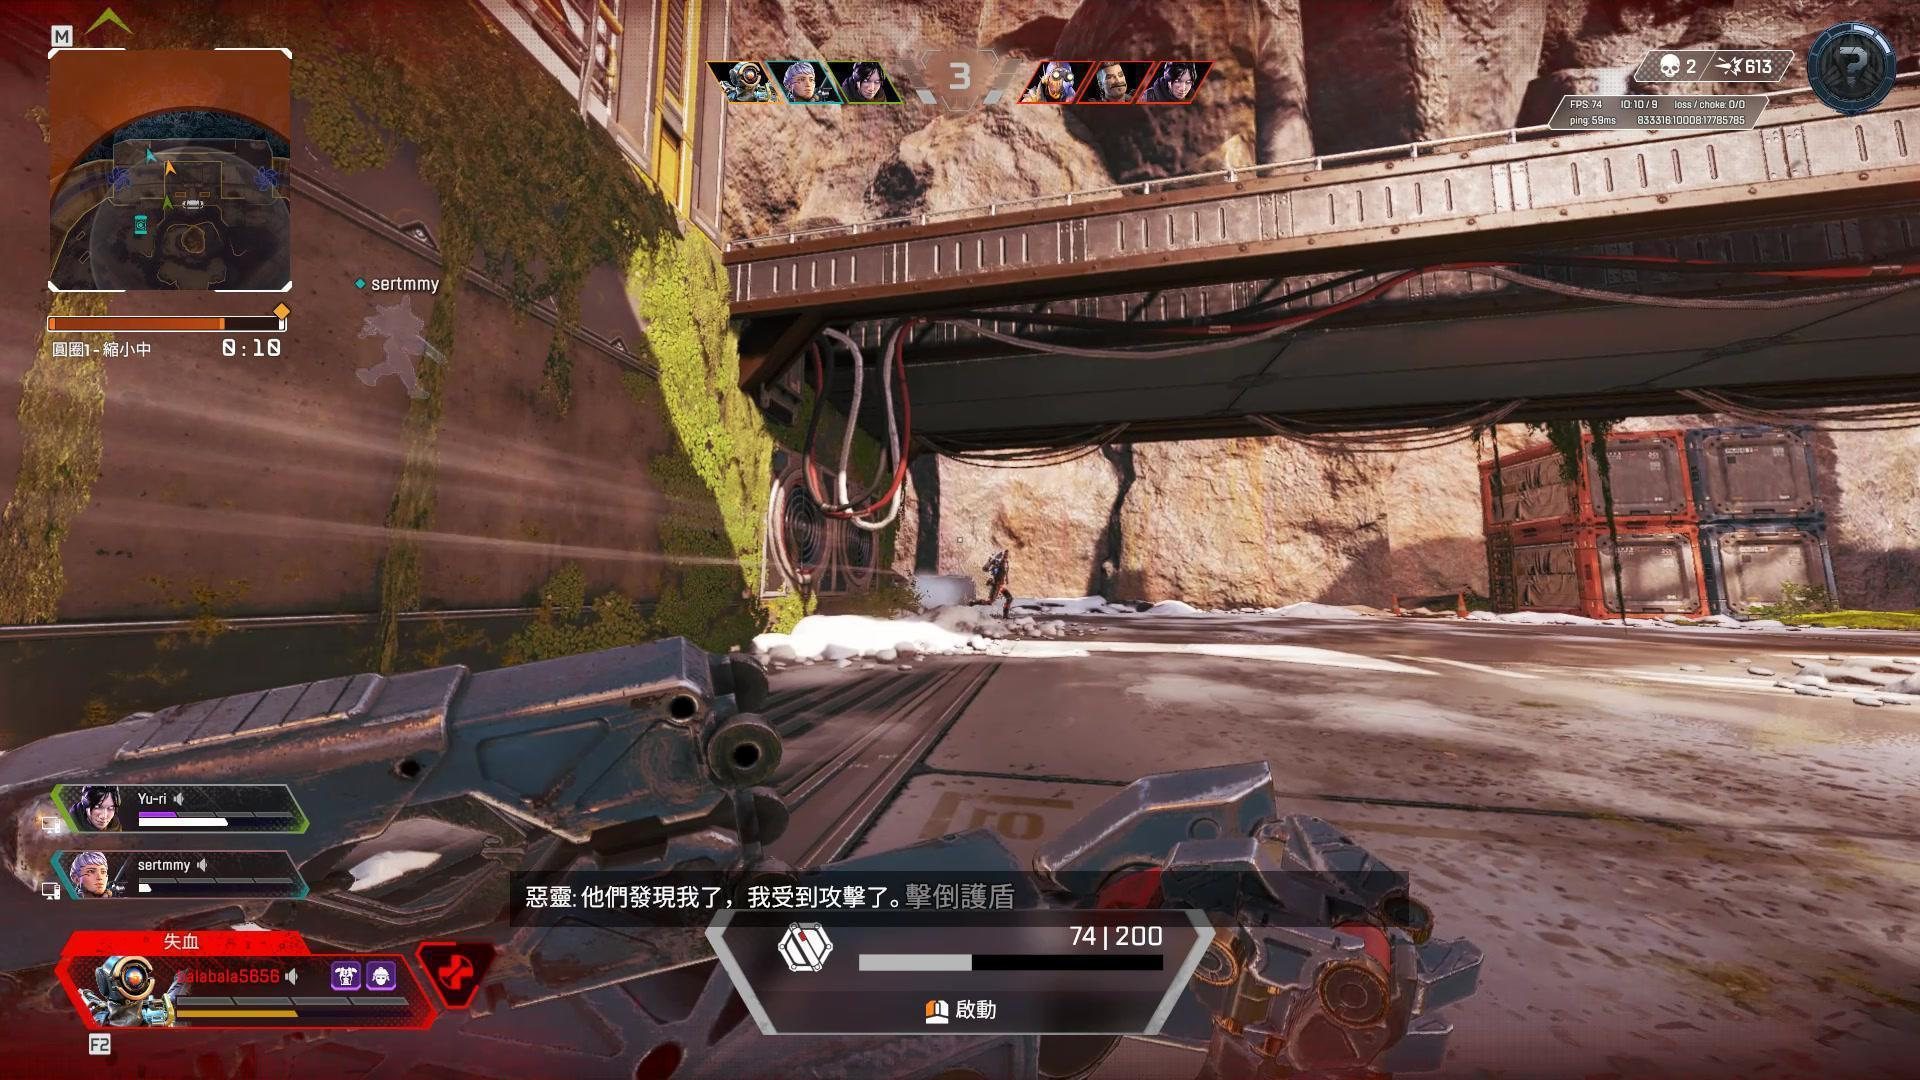avatar: (978, 547, 1014, 623)
